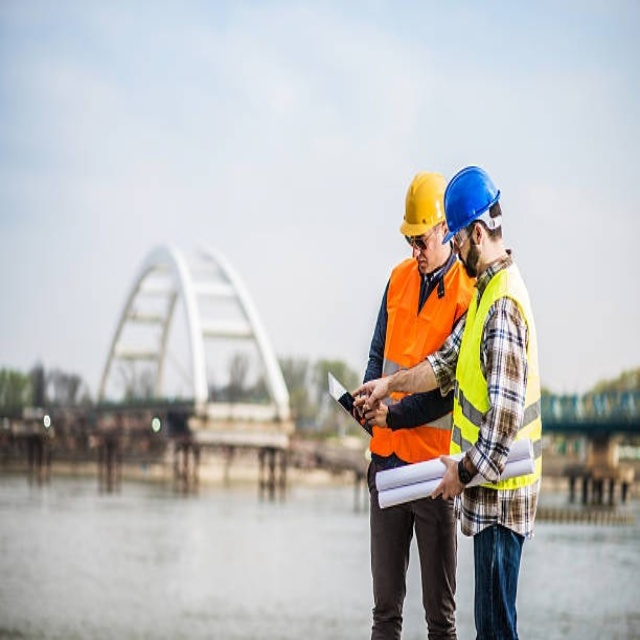Gafas: (448, 221, 473, 257), (403, 226, 439, 249)
Sin_guantes: (353, 373, 387, 428), (430, 453, 463, 502)
Sin_mascara: (413, 253, 430, 271)
